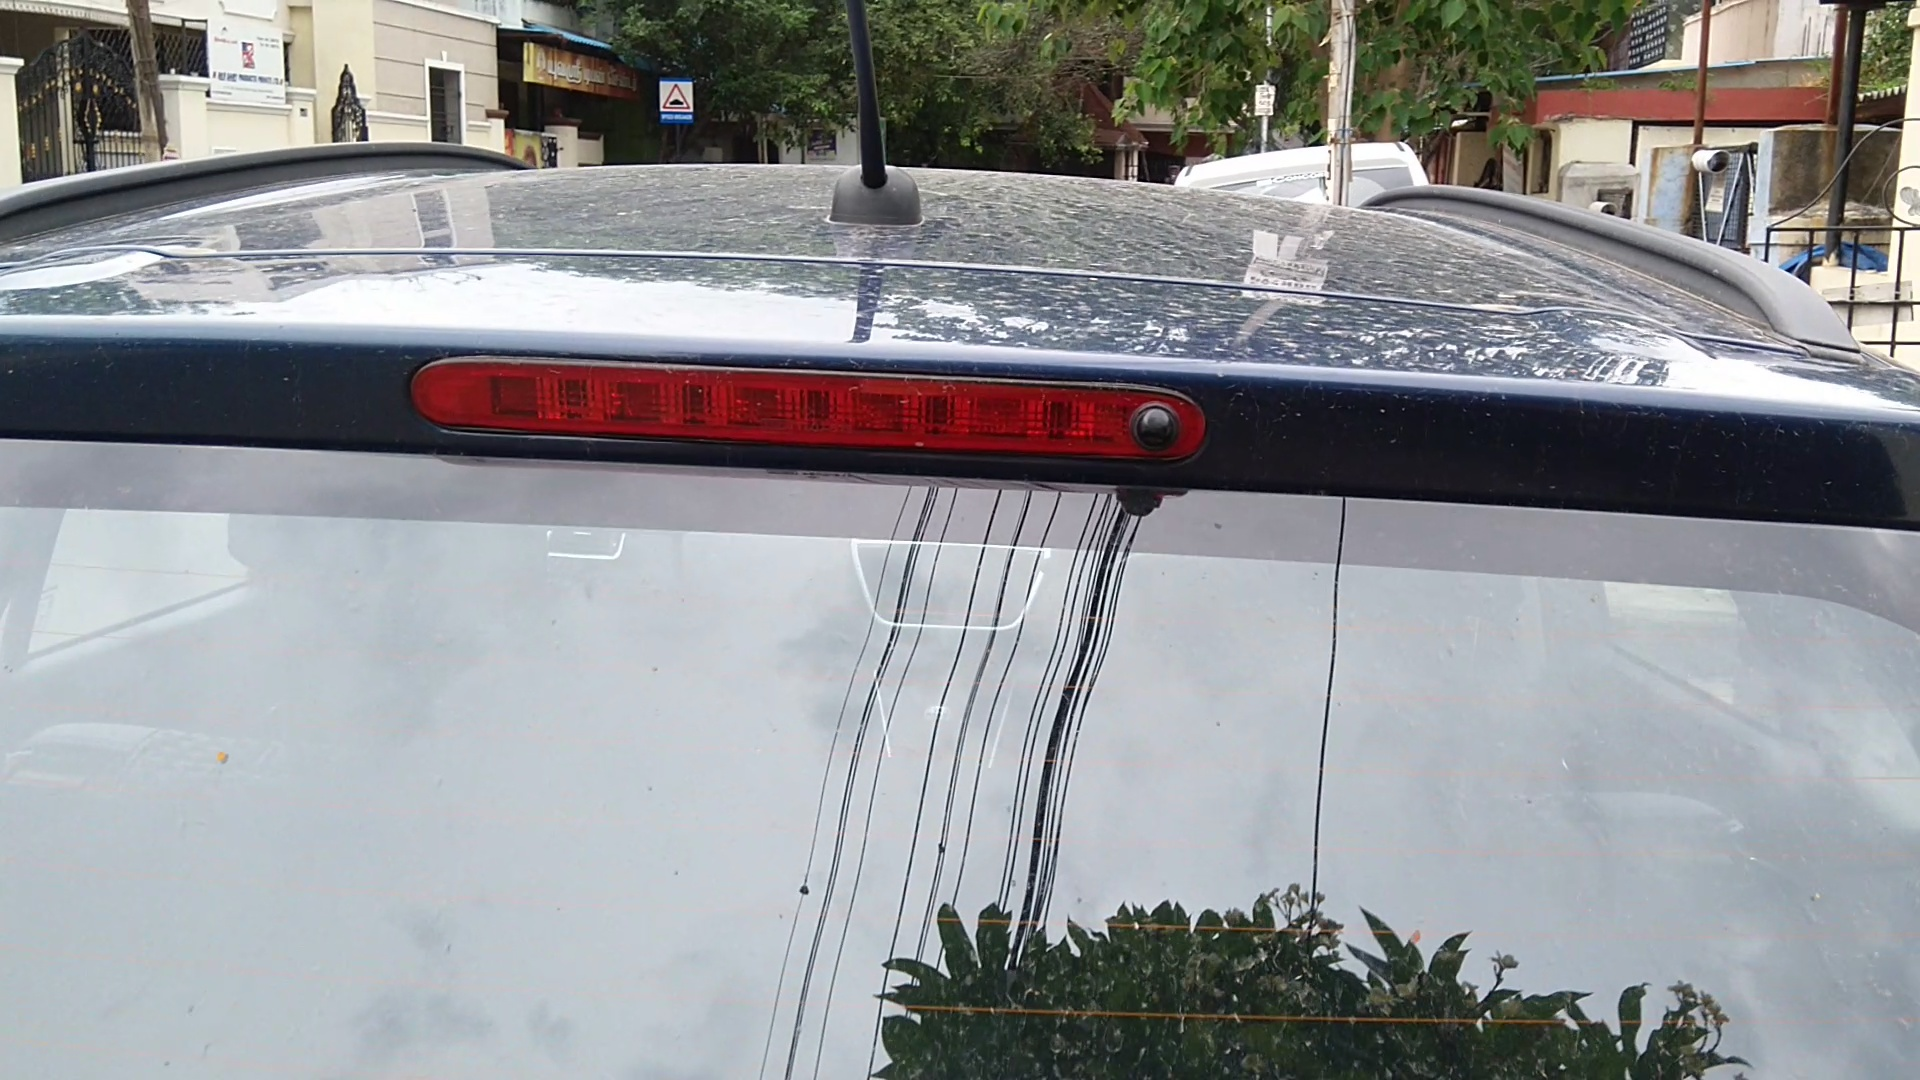rear_camera: (1117, 381, 1193, 465)
